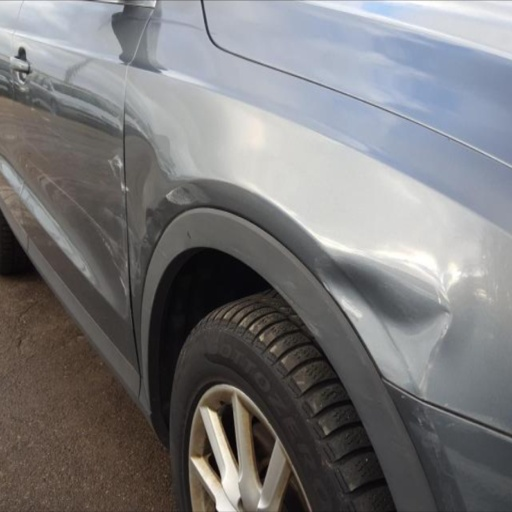dent: (313, 244, 453, 401), (125, 117, 207, 297), (166, 183, 211, 209), (145, 207, 164, 246)
scratch: (21, 156, 100, 227), (413, 407, 457, 502), (418, 317, 454, 397), (274, 285, 321, 338), (95, 229, 130, 300), (225, 248, 276, 287), (128, 231, 139, 298), (109, 157, 124, 192), (342, 298, 364, 321), (103, 207, 127, 226), (30, 107, 51, 121), (310, 322, 319, 334), (439, 289, 445, 306), (322, 283, 330, 292), (446, 422, 454, 427), (400, 395, 407, 400)
